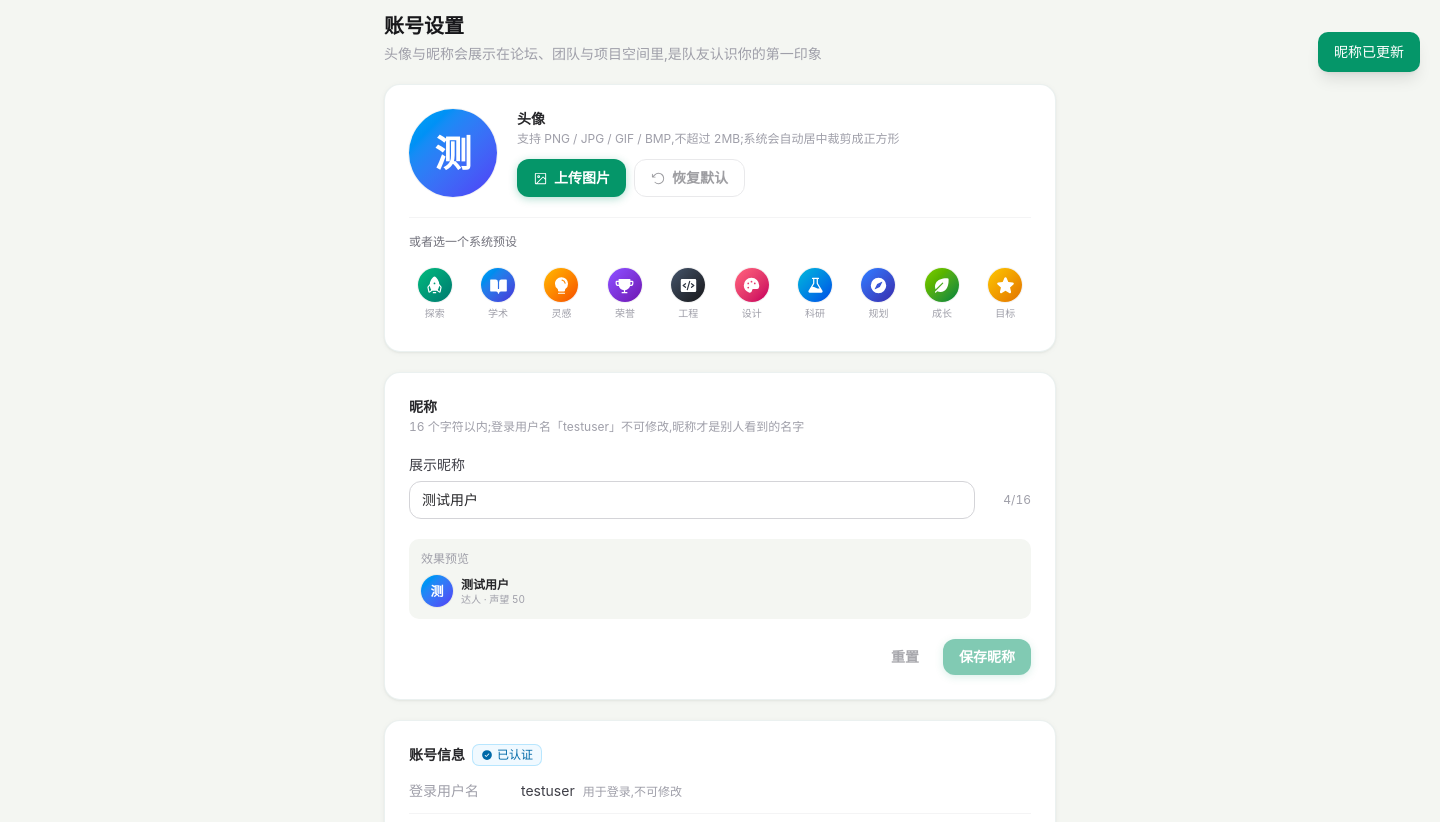
Test: 账号设置页 › 昵称不合法时按钮不可点,并给出原因
This screenshot has width=1440, height=822.
Replace the text in the field with placeholder "例如:爱打比赛的阿伟" with "王" at (692, 500), box x1=409 y1=481 x2=975 y2=519
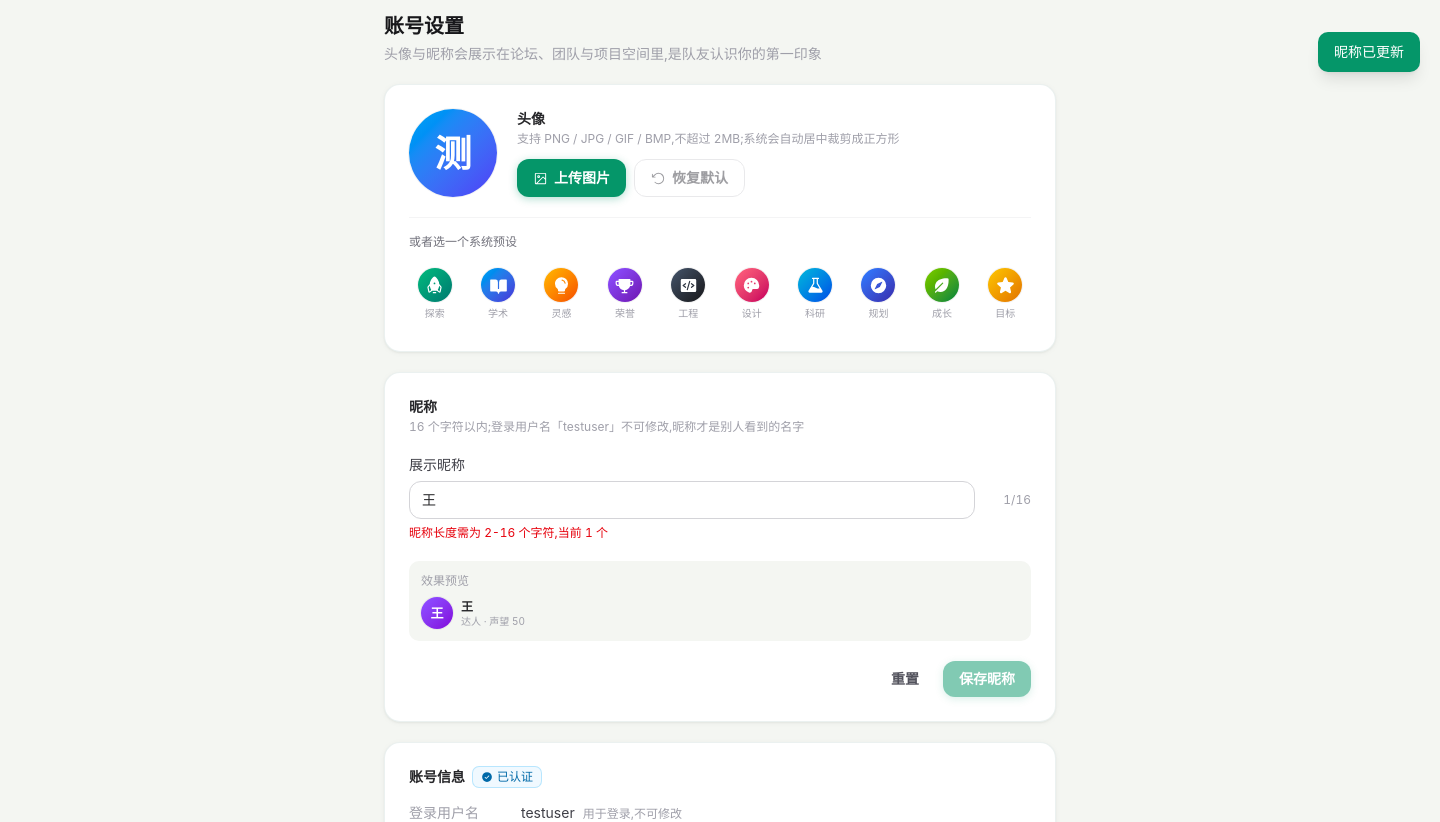
Expected: the button "保存昵称" is disabled, x1=943 y1=661 x2=1031 y2=697
Expected: the text "昵称长度需为 2-16 个字符,当前 1 个" is shown, x1=409 y1=525 x2=608 y2=540
